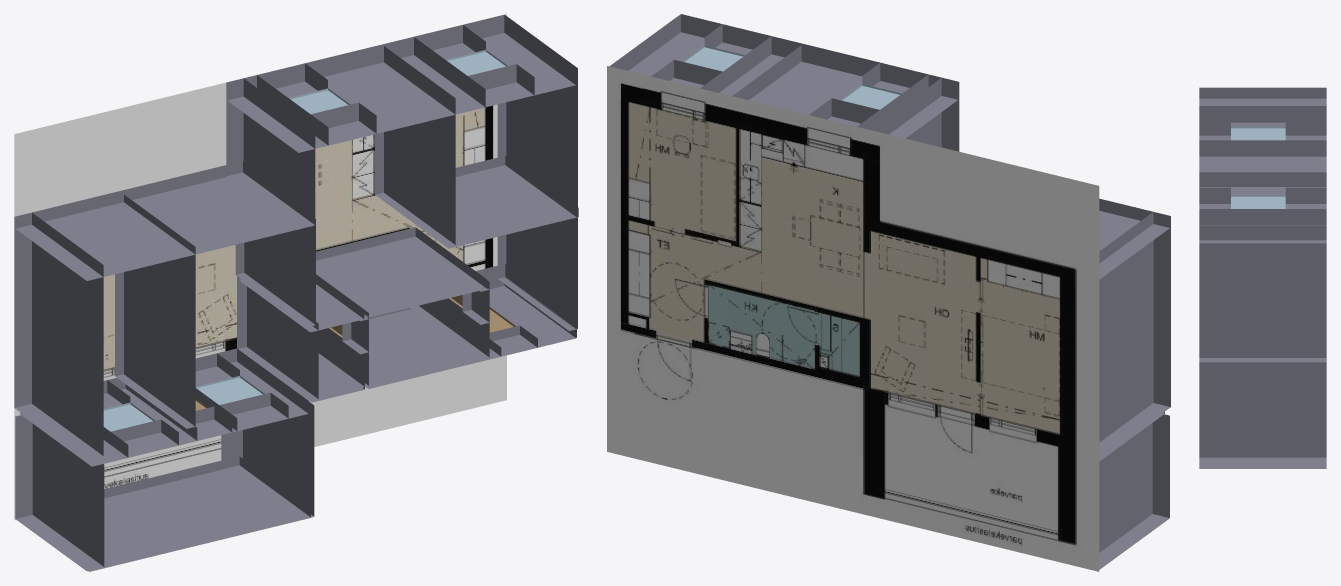
The picture shows the model from 3 angles, left to right: view 1: azimuth 30°, elevation 25°; view 2: azimuth 150°, elevation 25°; view 3: azimuth 270°, elevation 25°; orthographic projection. The views are drawn at different scales.
Parts seen in each view (by area): view 1: 2, InteriorFloor; view 2: InteriorFloor, 2; view 3: 2.
Part boxes in pixels (x1,y1,x2,y2): 2: (14,14,578,571); InteriorFloor: (14,14,506,520); InteriorFloor: (607,66,1099,571); 2: (610,14,1170,569); 2: (1199,87,1326,468).
Size of the model in its own units: 11.12 by 8.33 by 2.8.
Materials: 2 (1 with a texture image).
